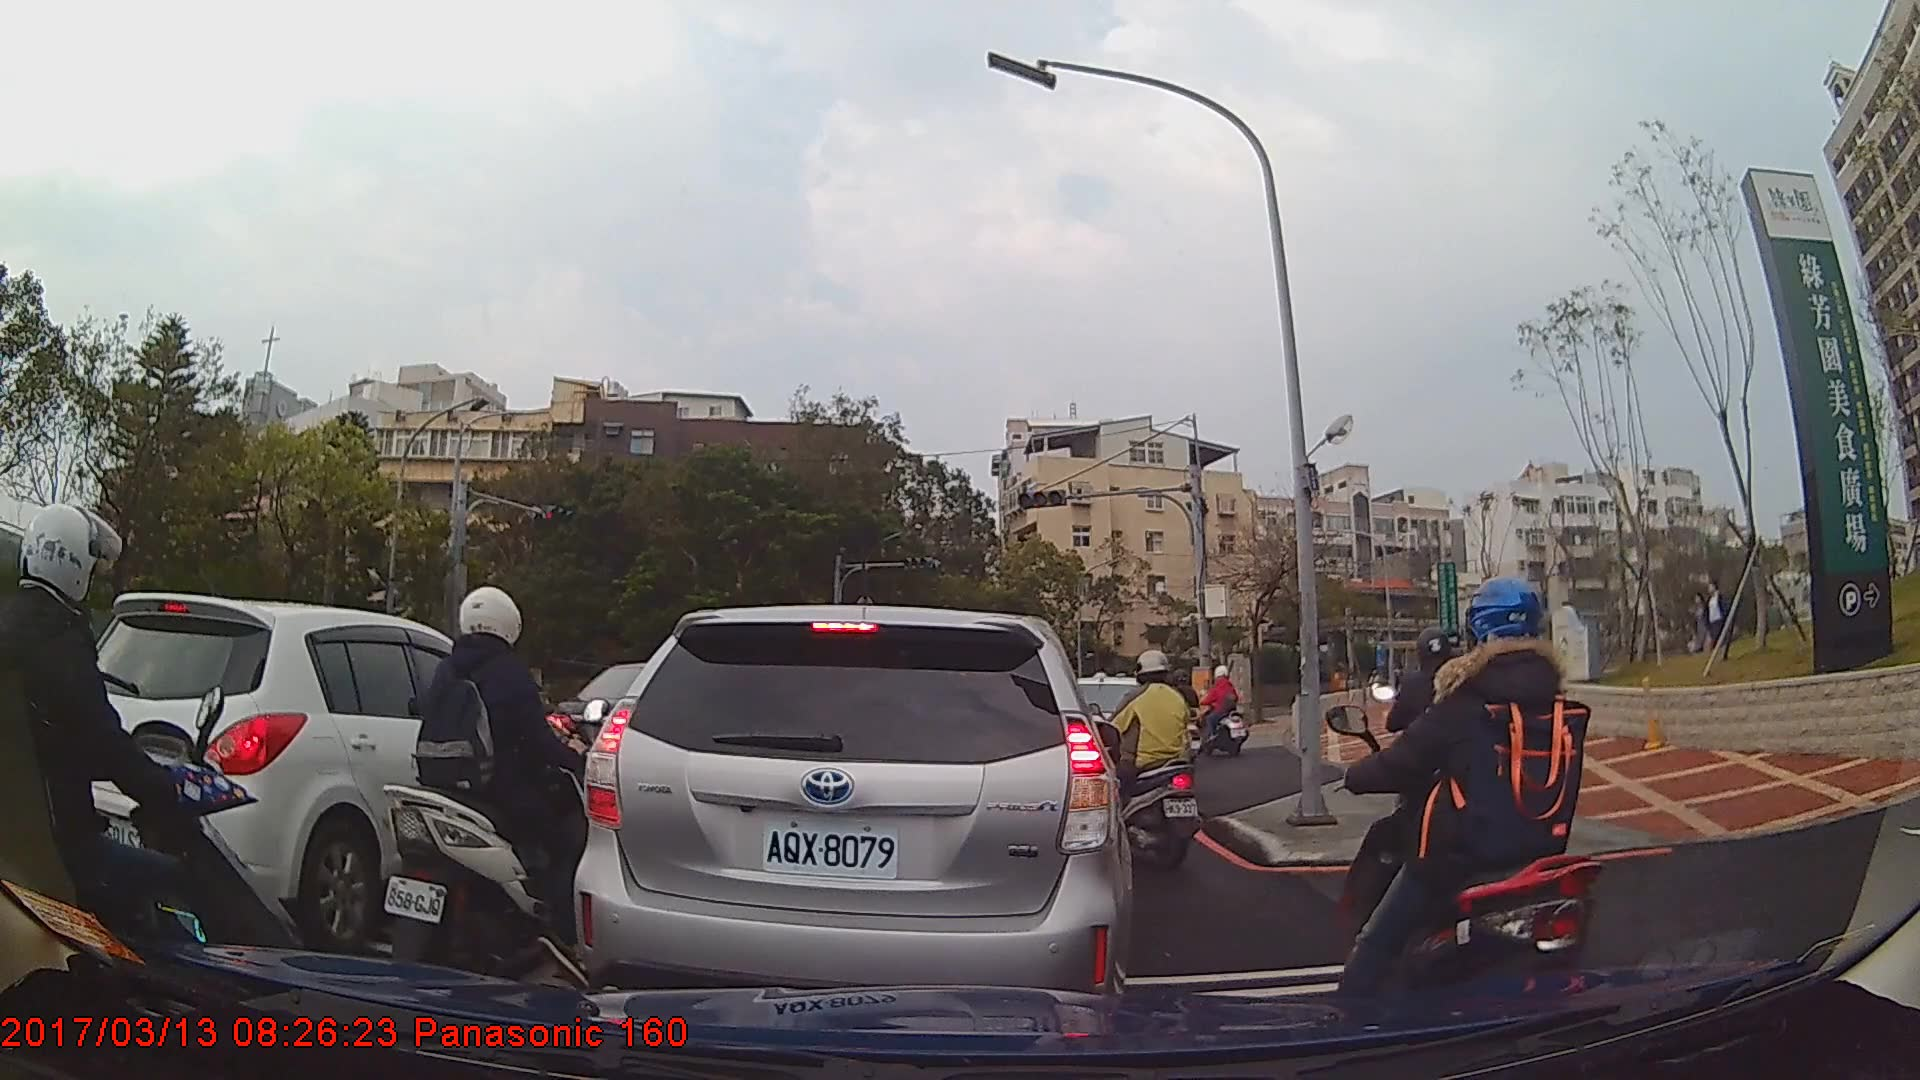pedestrian: (1698, 576, 1739, 660), (1686, 582, 1717, 661)
rider: (1, 503, 304, 1080), (1346, 572, 1617, 1037), (386, 584, 601, 987), (1099, 650, 1202, 871), (1191, 663, 1253, 758)
vehicle: (572, 603, 1134, 1025), (72, 589, 565, 955)
